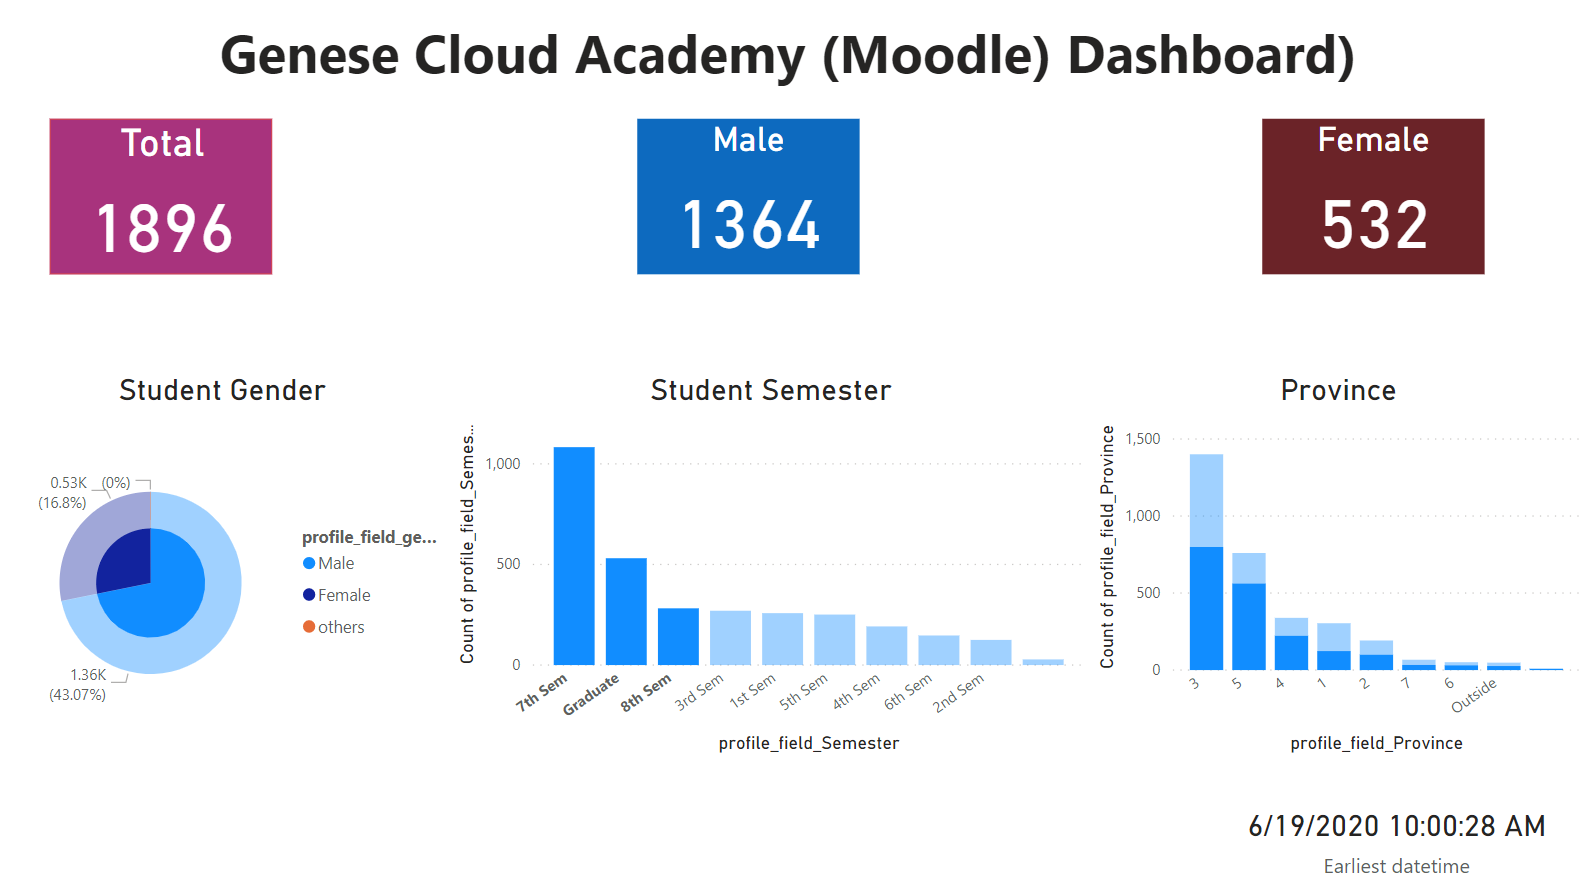

The page's visual inventory and layout, read from the dashboard file:
{"tool":"powerbi","page":{"name":"Dashboard","canvas":[1280,720],"ordinal":0},"visuals":[{"type":"pieChart","title":"Student Gender","fields":{"Category":["user_latest.profile_field_gender1"],"Series":["user_latest.profile_field_gender1"],"Y":["CountNonNull(user_latest.profile_field_gender)"]},"box":[2.1,303.2,367.2,310.5],"z":0},{"type":"columnChart","title":"Student Semester","fields":{"Category":["user_latest.profile_field_Semester1"],"Y":["CountNonNull(user_latest.profile_field_Semester)1"]},"box":[369.4,303.2,513.4,310.5],"z":1000},{"type":"columnChart","title":"Province","fields":{"Category":["user_latest.profile_field_Province1"],"Y":["CountNonNull(user_latest.profile_field_Province)1"]},"box":[882.3,302.7,397.4,310.5],"z":2000},{"type":"card","title":"Total","fields":{"Values":["CountNonNull(user_latest.id)"]},"box":[47.1,98.8,178.8,124.4],"z":3000},{"type":"card","title":"Male","fields":{"Values":["CountNonNull(user_latest.profile_field_gender)"]},"box":[518.2,98.8,178.8,124.4],"z":4000},{"type":"card","title":"Female","fields":{"Values":["CountNonNull(user_latest.profile_field_gender)"]},"box":[1019.5,98.8,178.8,124.4],"z":5000},{"type":"textbox","box":[0,10.9,1279.3,72.5],"z":6000},{"type":"card","fields":{"Values":["Min(Kathmandu.datetime)"]},"box":[994.2,641.5,268.2,68.9],"z":7000}]}

Visuals, with their boxes in screenshot pixels (x1, y1, x2, y2), scaled from the page's 1280x720 canvas onto the 1581x885 screenshot:
"Student Gender" pieChart: x1=3, y1=373, x2=456, y2=754
"Student Semester" columnChart: x1=456, y1=373, x2=1090, y2=754
"Province" columnChart: x1=1090, y1=372, x2=1580, y2=754
"Total" card: x1=58, y1=121, x2=279, y2=274
"Male" card: x1=640, y1=121, x2=861, y2=274
"Female" card: x1=1259, y1=121, x2=1480, y2=274
textbox: x1=0, y1=13, x2=1580, y2=103
card - Min(Kathmandu.datetime): x1=1228, y1=789, x2=1559, y2=873
